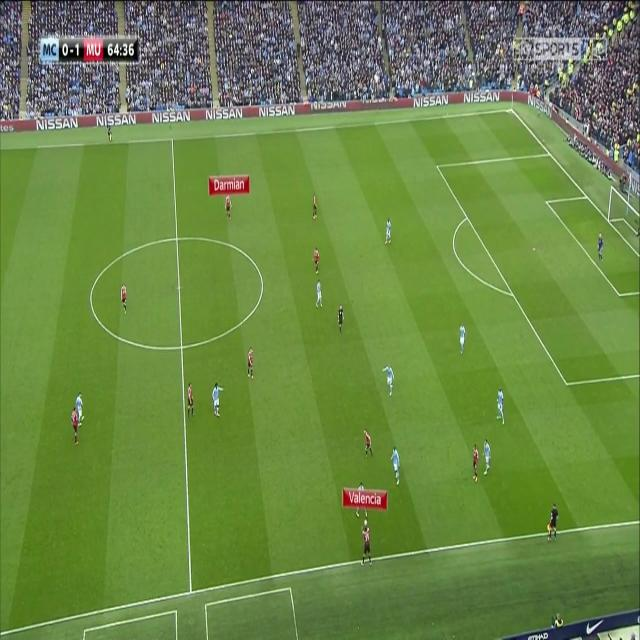Ball: (364, 519, 368, 529)
Goalkeeper: (596, 230, 604, 263)
Player: (210, 380, 226, 418), (390, 444, 402, 486), (494, 384, 506, 426), (360, 529, 372, 570), (381, 362, 395, 397), (482, 437, 492, 481), (362, 425, 374, 459), (70, 408, 80, 448), (75, 390, 85, 429), (470, 443, 479, 486), (383, 215, 394, 248), (186, 378, 194, 421), (246, 345, 255, 380), (311, 245, 321, 276), (120, 280, 128, 316), (316, 277, 324, 313), (459, 322, 466, 356), (224, 194, 232, 222), (312, 191, 319, 221)
Referee: (548, 502, 560, 544), (336, 303, 346, 333), (104, 122, 113, 145)
